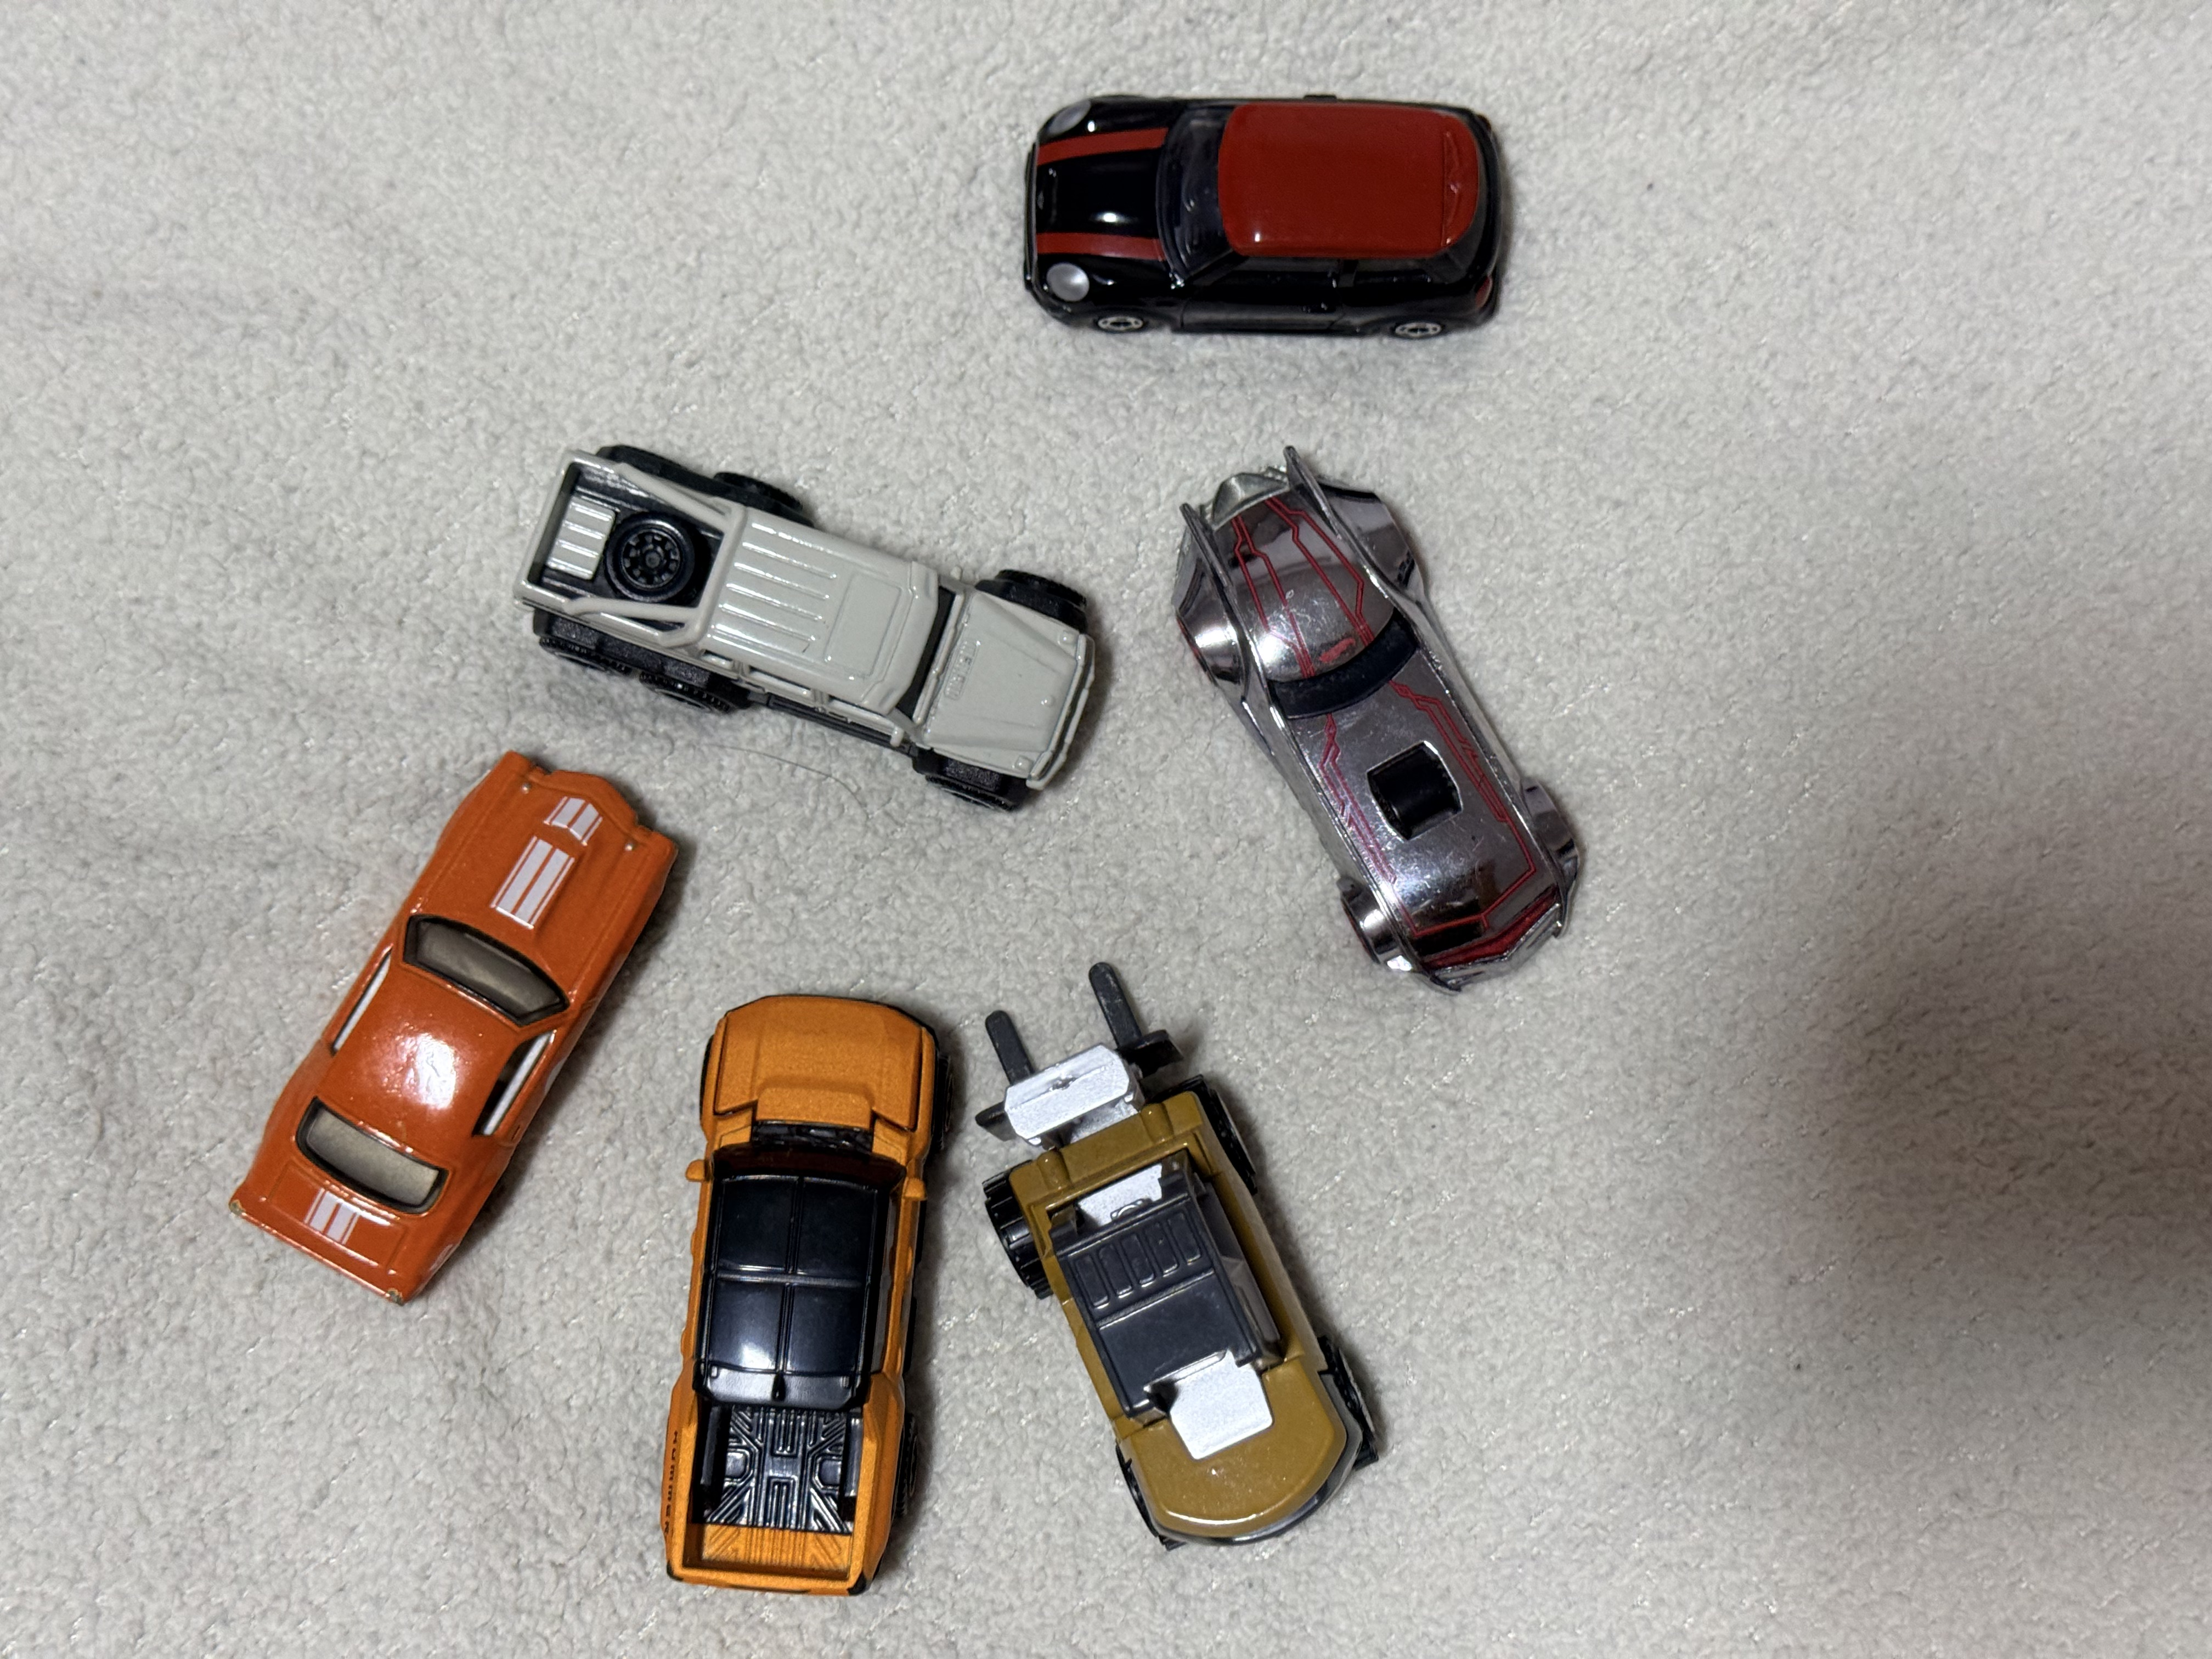camaro_rs: (226, 749, 679, 1309)
dc_comics: (1169, 443, 1585, 995)
forklift: (974, 962, 1381, 1551)
gmc_hummer: (658, 992, 948, 1600)
mercedes_benz: (509, 439, 1099, 810)
mini_cooper: (1021, 92, 1512, 340)
